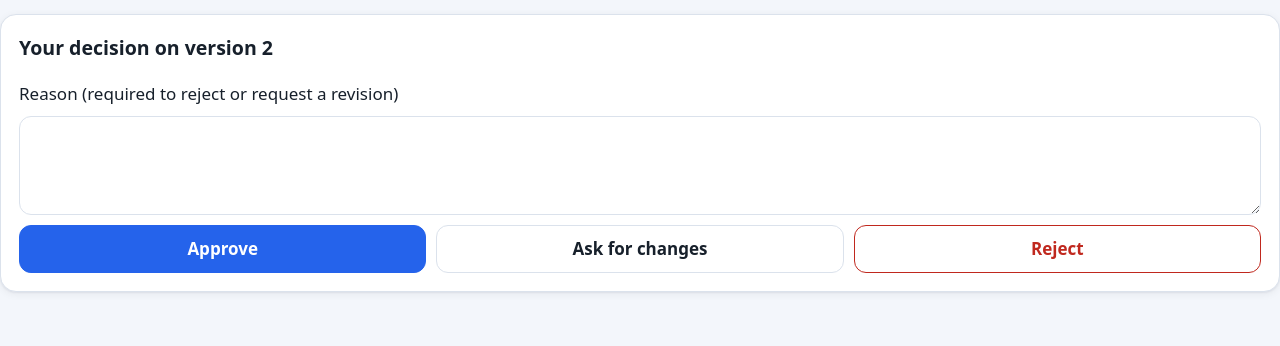
DecisionPanel › explains a conflict and refreshes instead of retrying
The width and height of the screenshot is (1280, 346).
Type "Out of stock" into the text box labelled "Reason (required to reject or request a revision)" at (640, 166), box [19,116,1261,215]
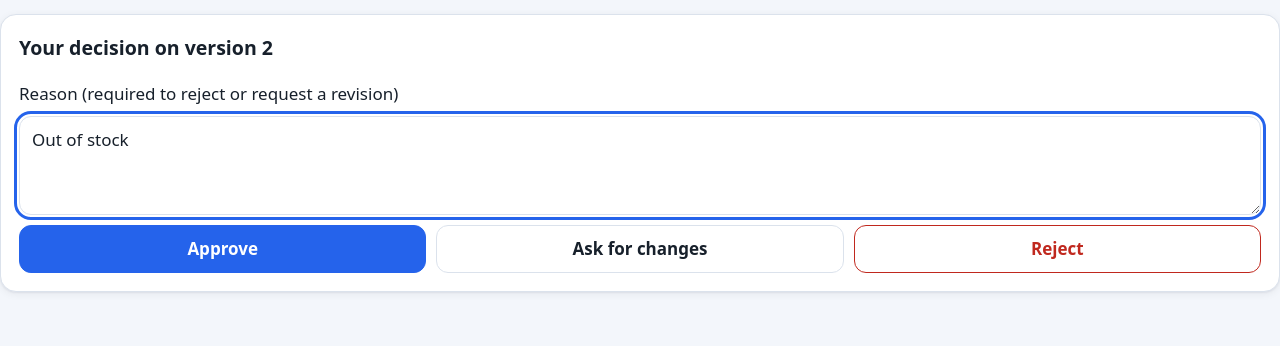
Click the button "Ask for changes" at (640, 249), box [436,225,844,273]
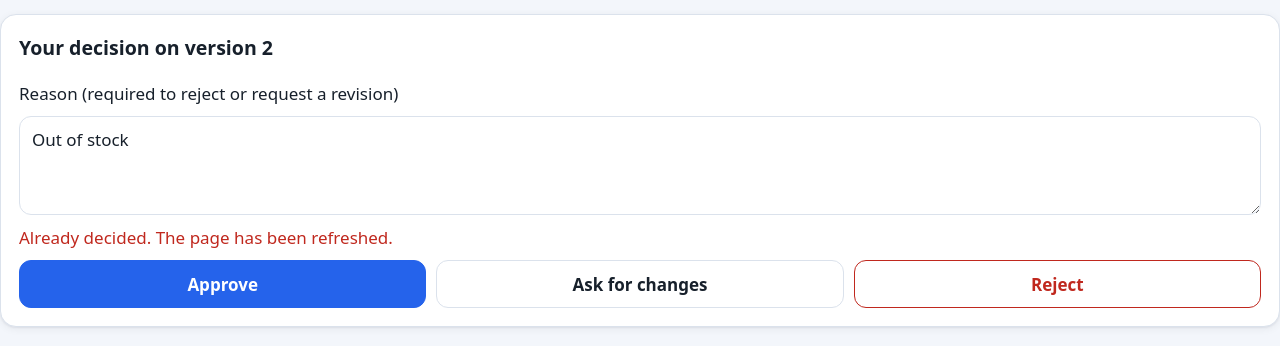
Expected: the message shows "Already decided", [19,226,393,249]
